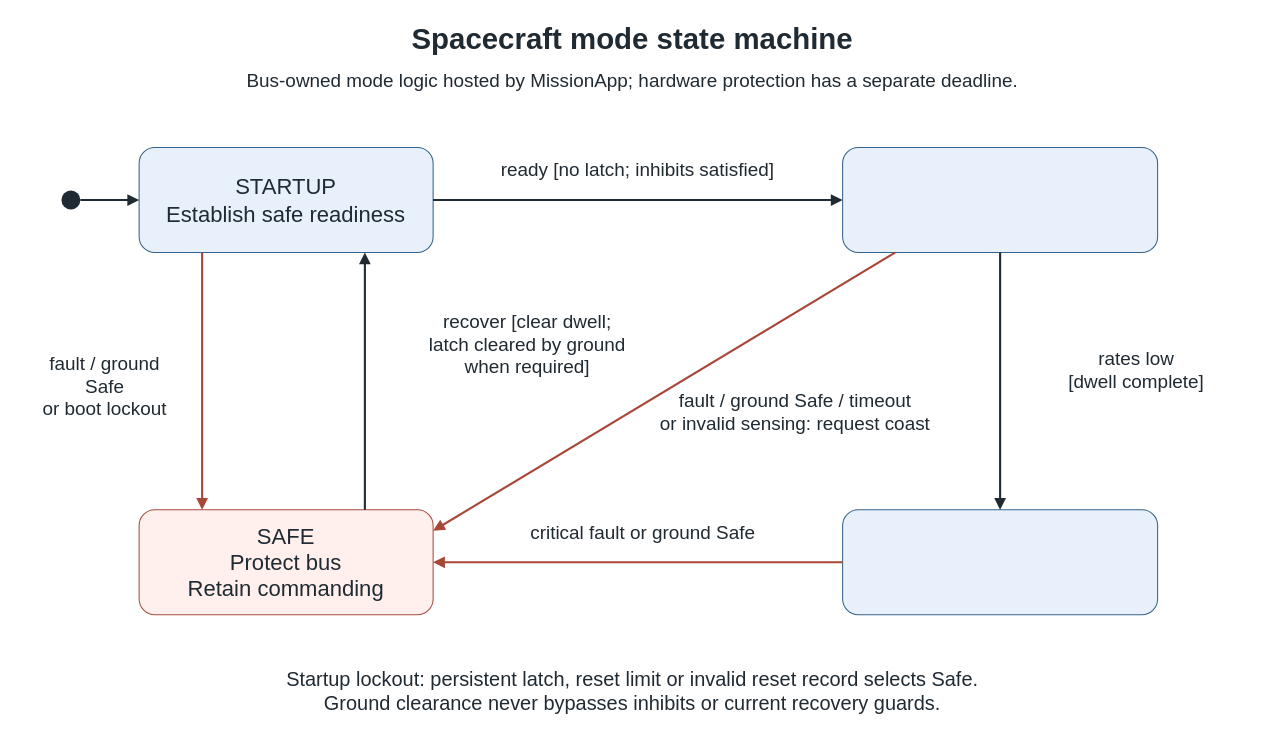
Some shapes in this 1264 by 742 pixel diagram are drawn without their labels. The box of each missing label's shape, as (x1, y1, x2, y2) in pixels:
DETUMBLE Bounded rate reduction: (842, 146, 1158, 253)
NOMINAL Admit mission activities: (842, 509, 1158, 615)
